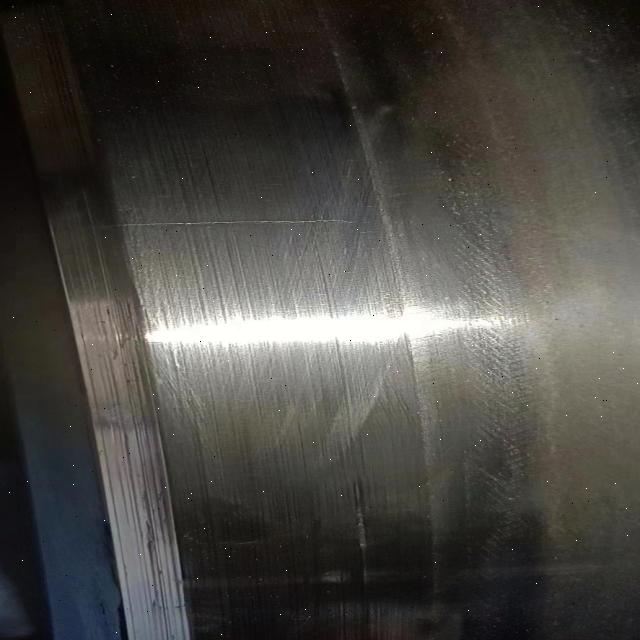hot crack: (327, 331, 438, 605), (49, 204, 354, 245)
